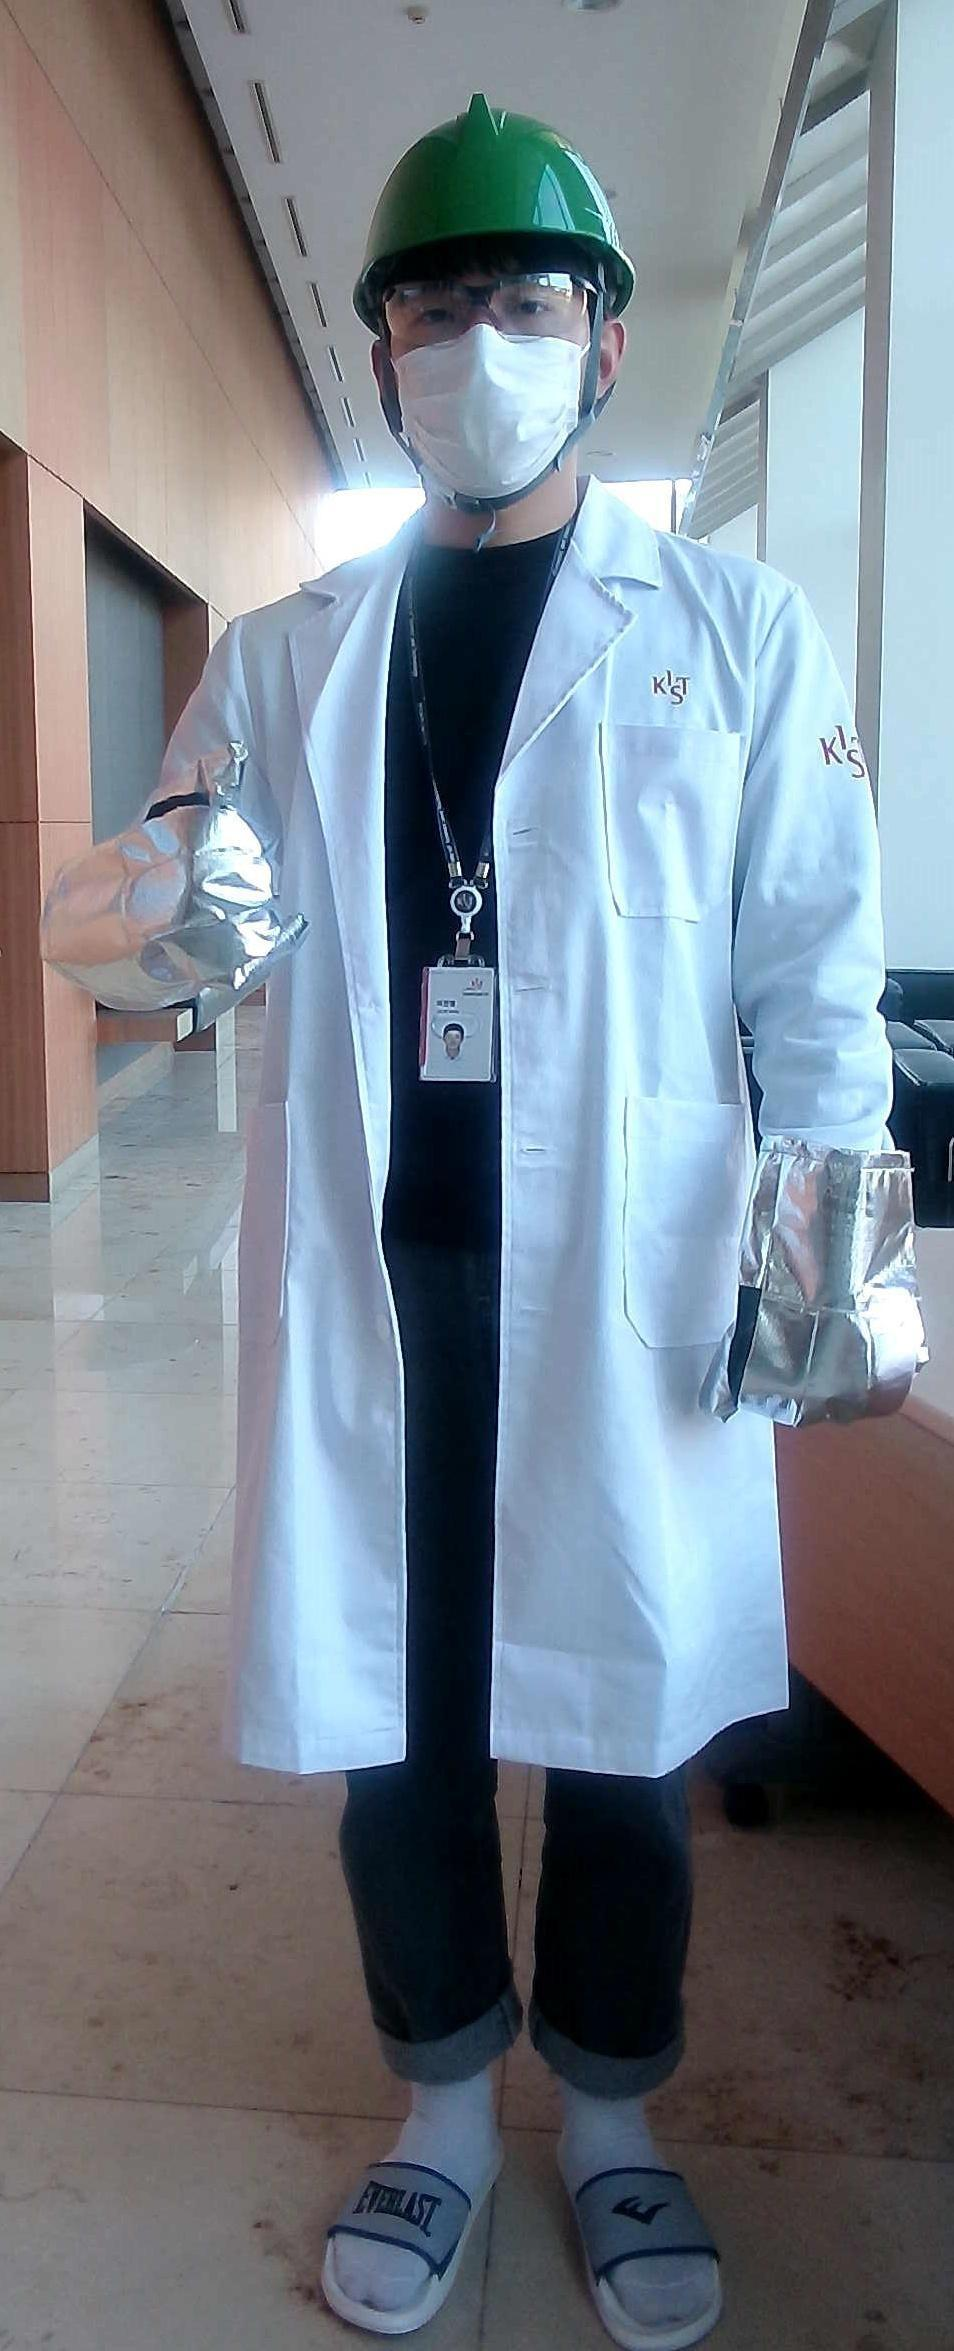lab_coat: (256, 556, 751, 1757)
